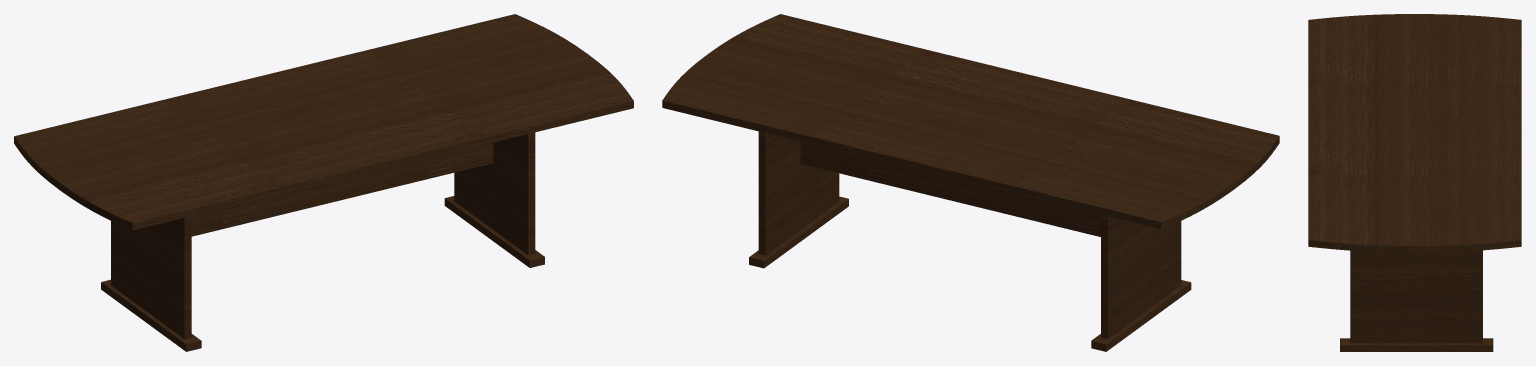
File: TableOffice3.FBX
3 renders of one model, left to right at view 1: azimuth 30°, elevation 25°; view 2: azimuth 150°, elevation 25°; view 3: azimuth 270°, elevation 25°, orthographic. The views are drawn at different scales.
Parts seen in each view (by area): view 1: TableOffice3; view 2: TableOffice3; view 3: TableOffice3.
Boxes of the visible parts, x1,y1,x2,y2 form: TableOffice3: (14,14,633,351); TableOffice3: (662,14,1279,351); TableOffice3: (1308,14,1521,351).
Size of the model in its own units: 106 by 30.66 by 41.34.
